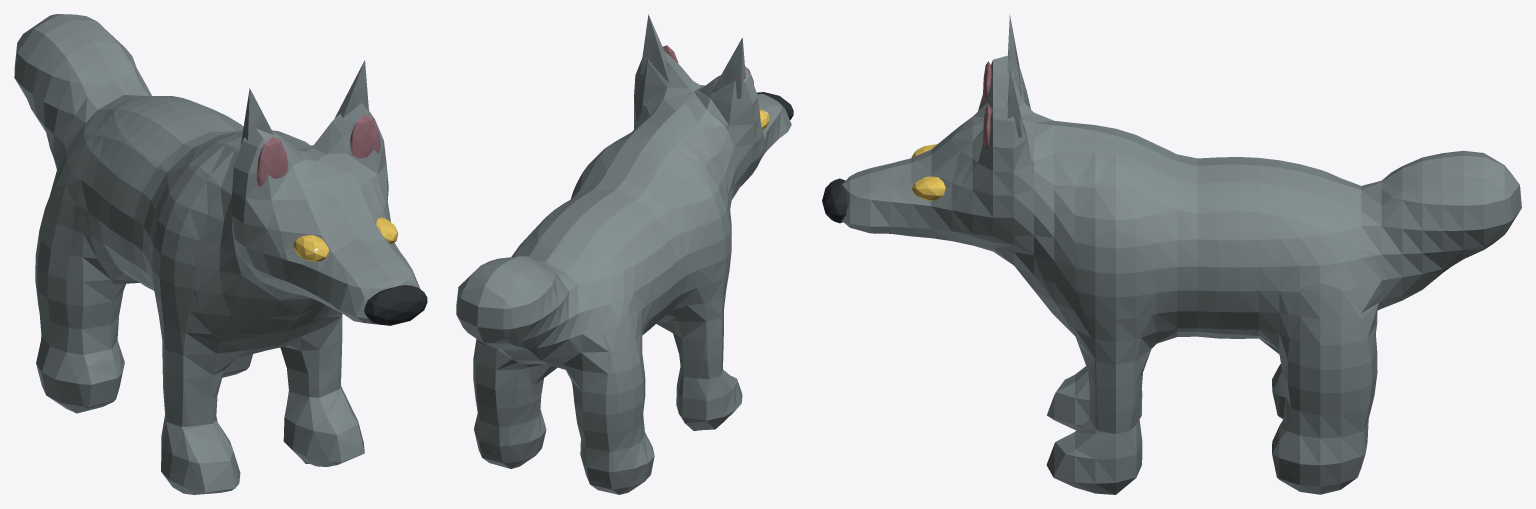
The model's file is wolf.glb.
3 views of the same model, side by side, from view 1: azimuth 30°, elevation 25°; view 2: azimuth 150°, elevation 25°; view 3: azimuth 270°, elevation 25° (orthographic). The views are drawn at different scales.
Visible parts, largest first — view 1: world; view 2: world; view 3: world.
Boxes of the visible parts, bbox=[...] form: world: bbox=[14, 14, 427, 494]; world: bbox=[456, 14, 793, 494]; world: bbox=[822, 14, 1521, 494].
Bounding box in the file's own units: 0.5 × 1.02 × 1.52.
Materials: 1 (1 with a texture image).
